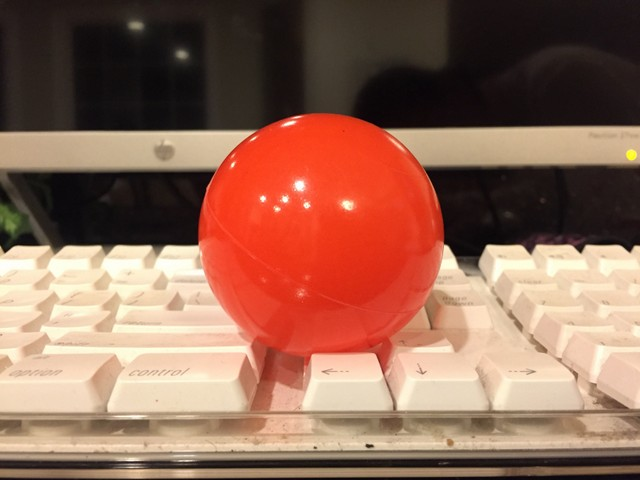Ball: (199, 111, 452, 359)
